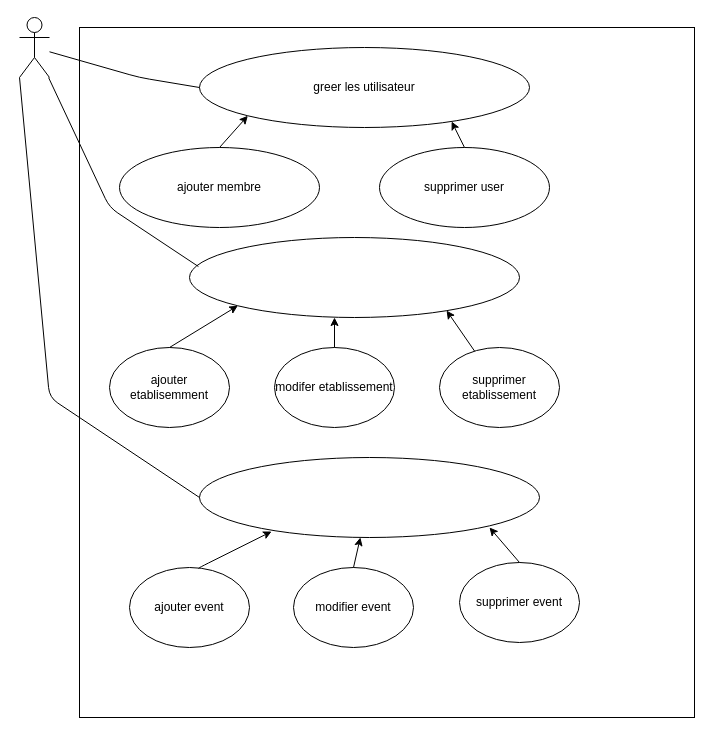
This 712x735 diagram has some shape labels left out. The shapes that lost their labels are listed below. From the top down, each one's box as (x1, y1, x2, y2) in pixels, then its label:
(18, 16, 50, 78): Admin
(188, 236, 520, 318): greer les etablissements
(198, 456, 540, 538): greer les events
